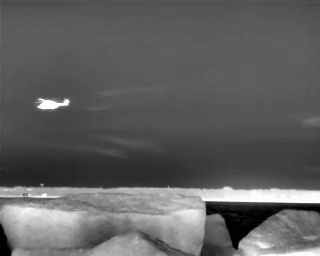HELICOPTER: (31, 92, 74, 115)
